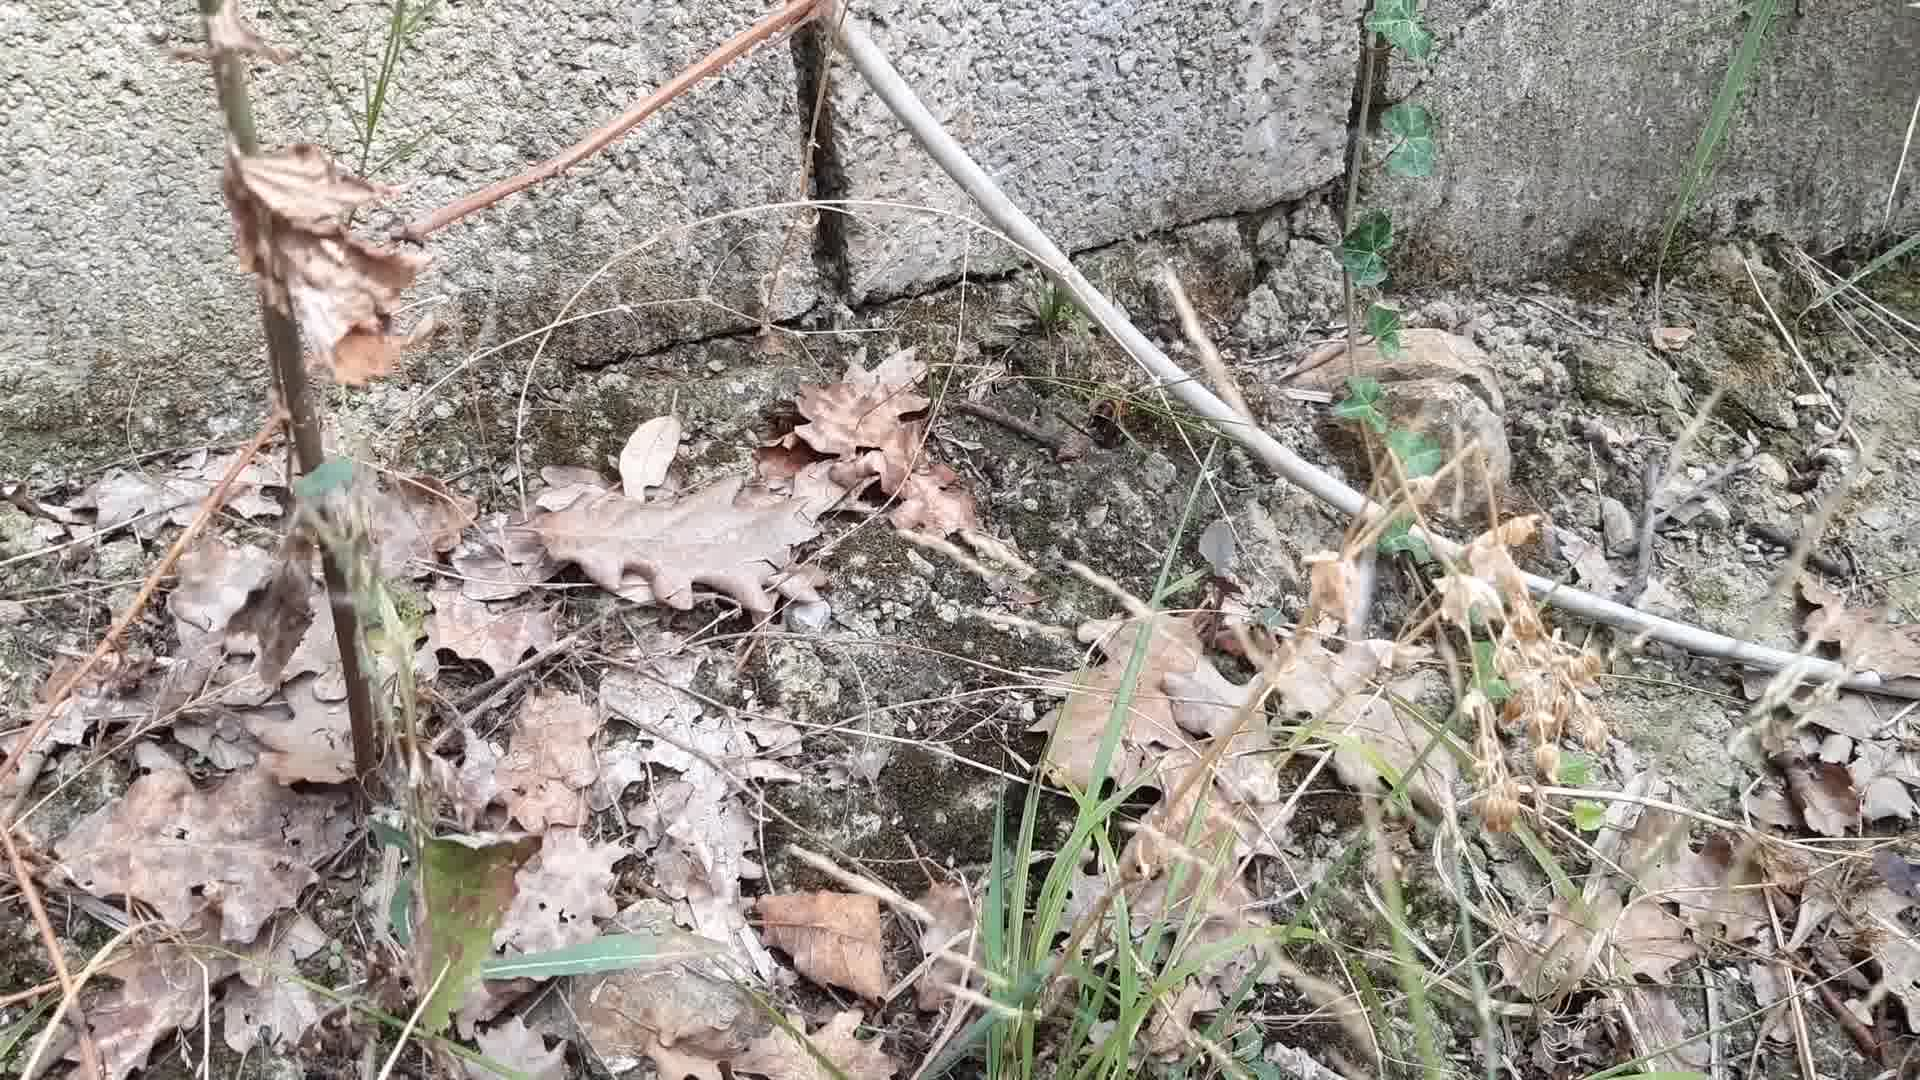hornet: (1080, 396, 1139, 451)
